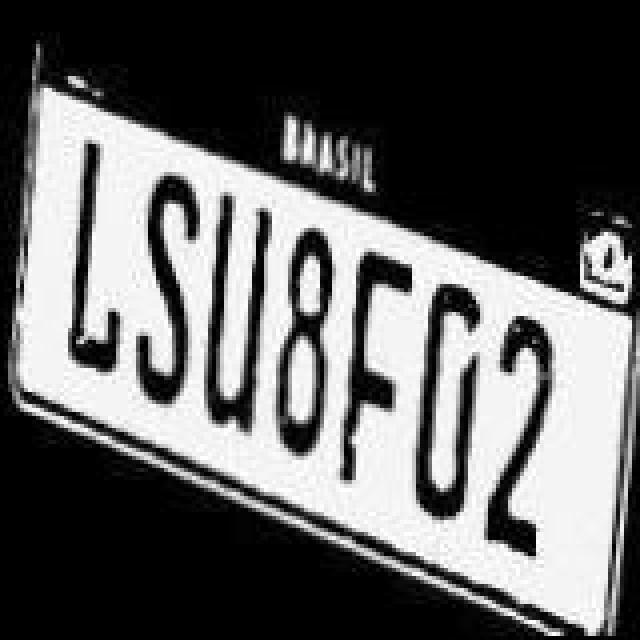2: (480, 314, 572, 558)
8: (262, 226, 338, 458)
D: (404, 282, 484, 522)
F: (320, 250, 416, 482)
L: (54, 140, 126, 372)
S: (126, 172, 202, 404)
U: (196, 192, 276, 436)
